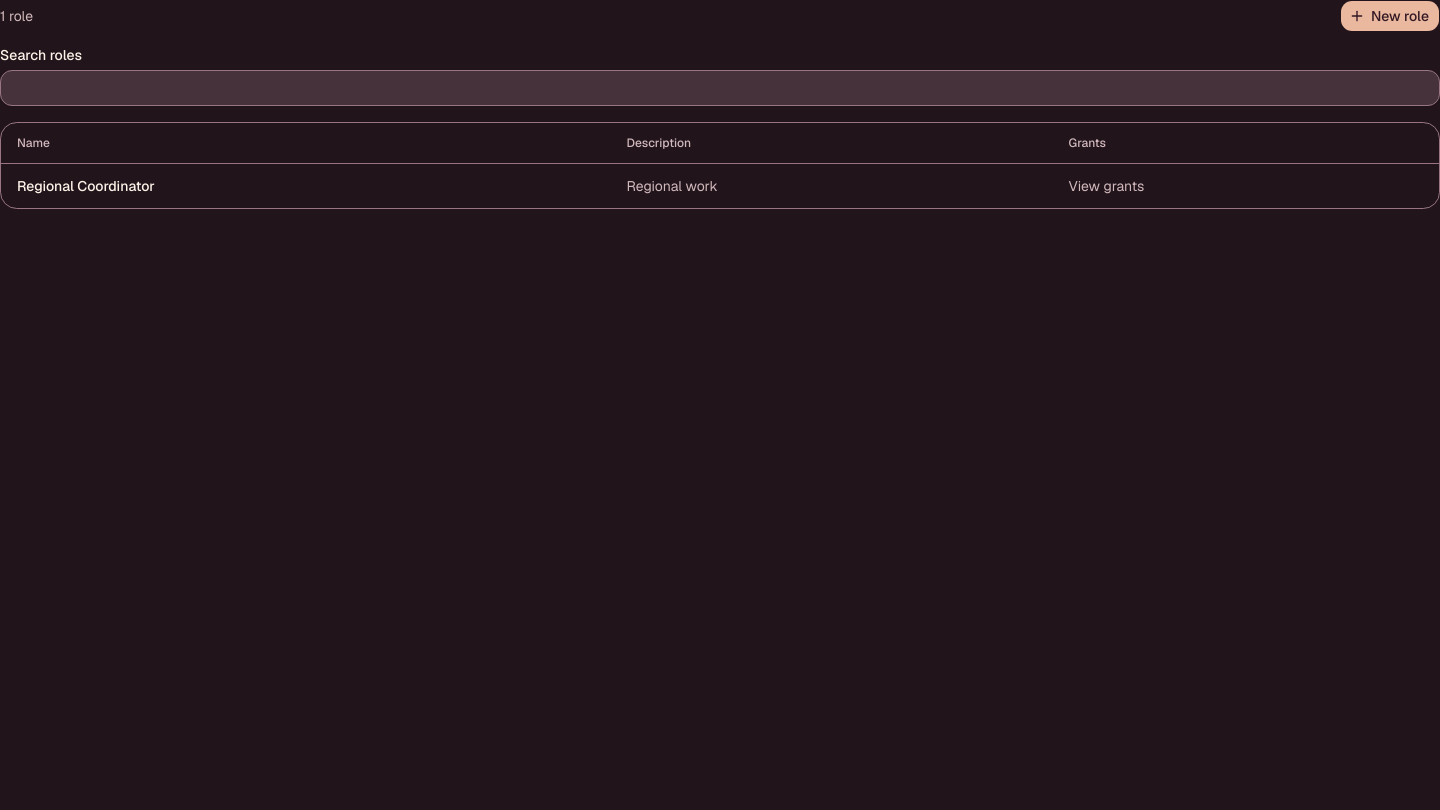
Test case: RolesManager API integration › preserves the name and description after a recoverable failure
Expected: the text "1 role" is shown, x1=0 y1=6 x2=33 y2=26
Step 1. Click the button "New role" → point(1390, 16), box x1=1340 y1=0 x2=1439 y2=32
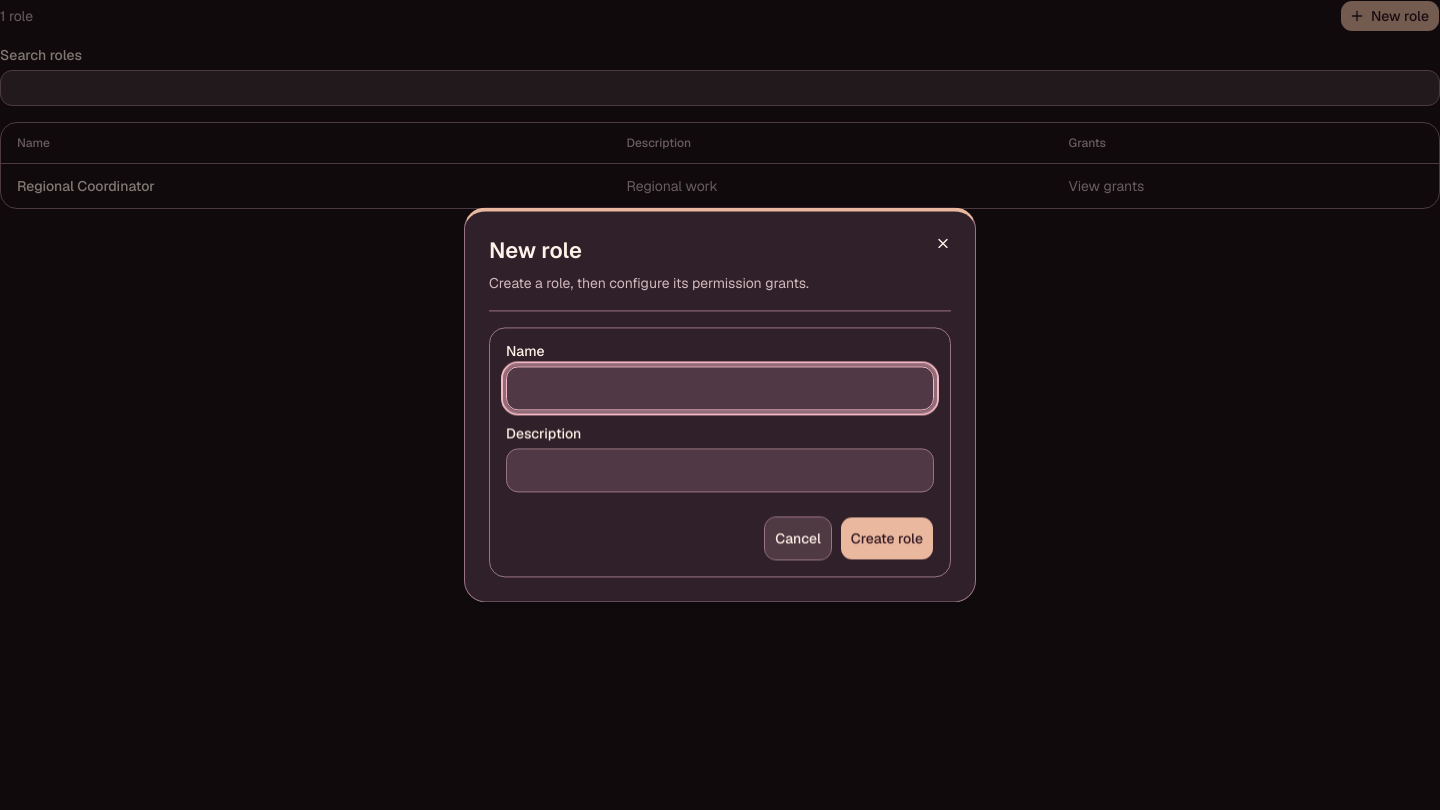
Step 2. Type "Draft name" into the field labelled "Name" → point(720, 389), box x1=506 y1=367 x2=934 y2=411
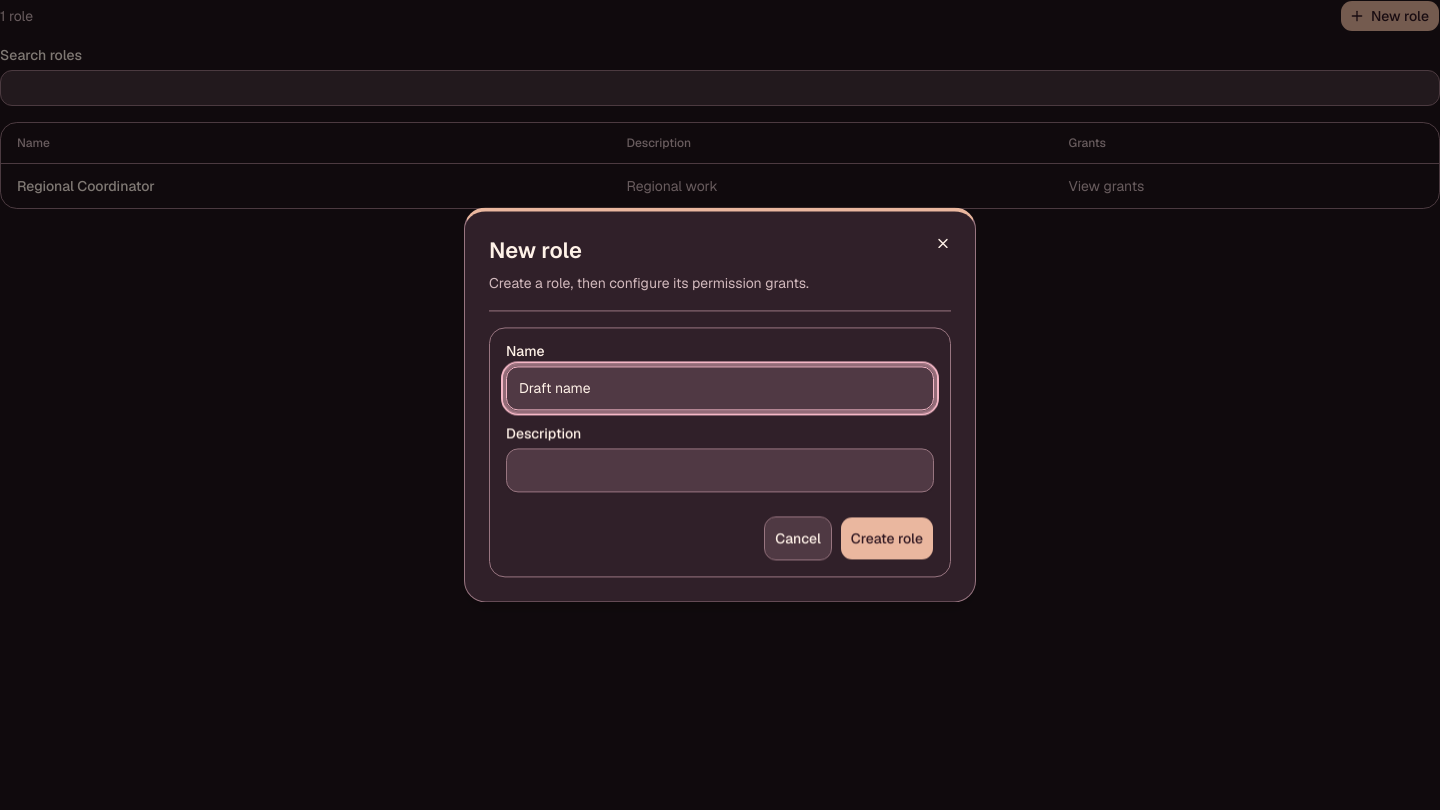
Step 3. Type "Draft description" into the field labelled "Description" → point(720, 471), box x1=506 y1=449 x2=934 y2=493
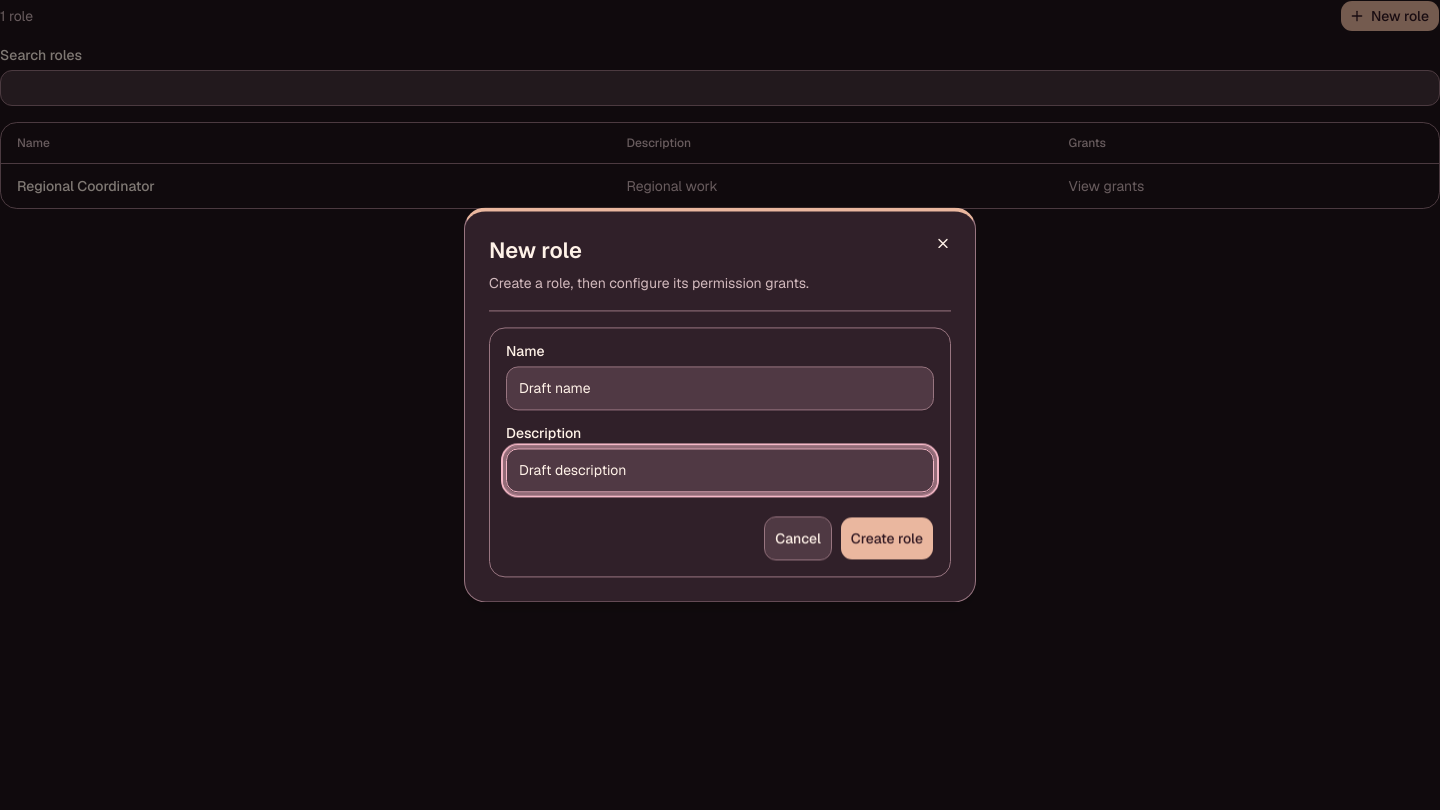
Step 4. Click the button "Create role" → point(887, 539), box x1=840 y1=517 x2=934 y2=561
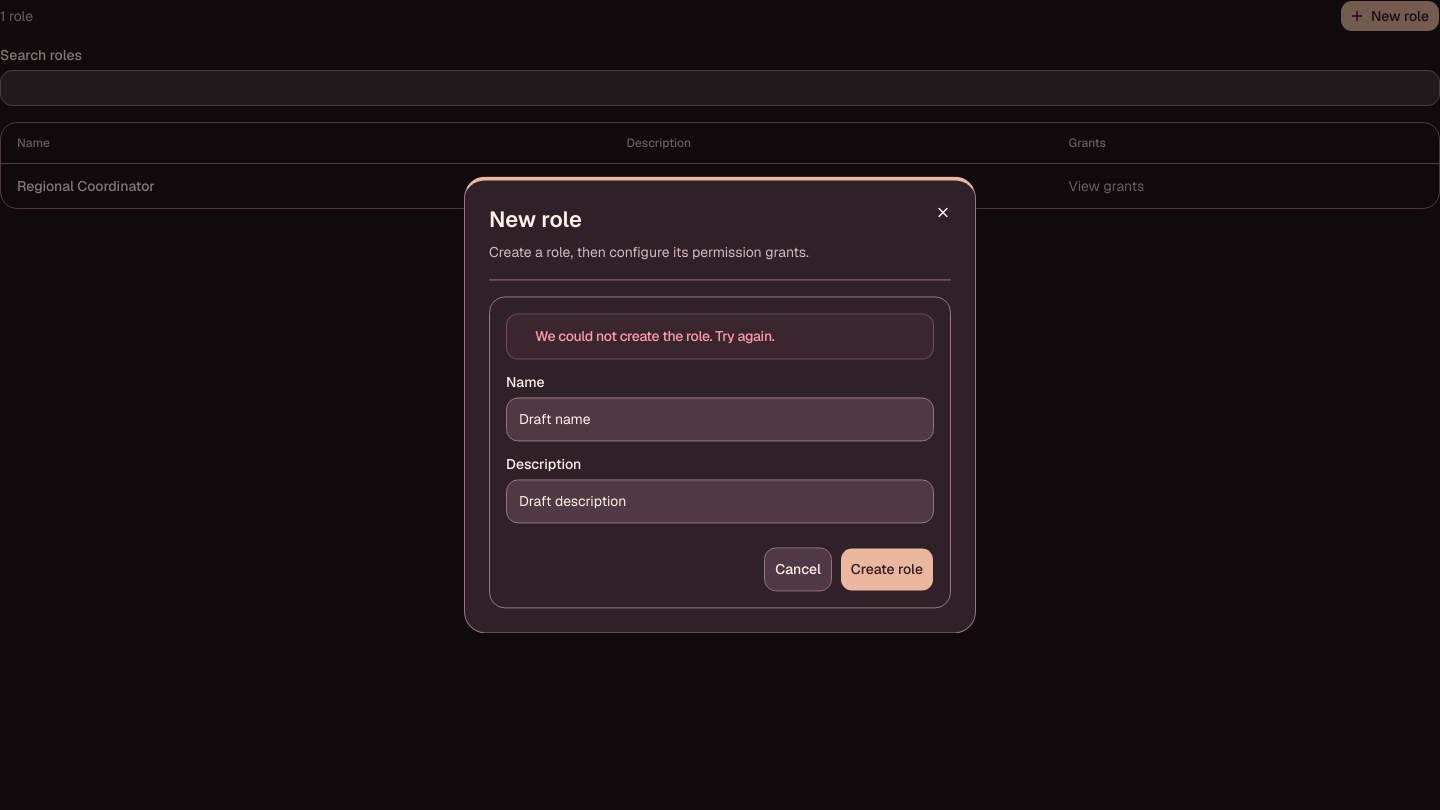
Expected: the button "Create role" is enabled, x1=840 y1=548 x2=934 y2=592
Expected: the text "We could not create the role. Try again." is shown, x1=535 y1=328 x2=774 y2=346
